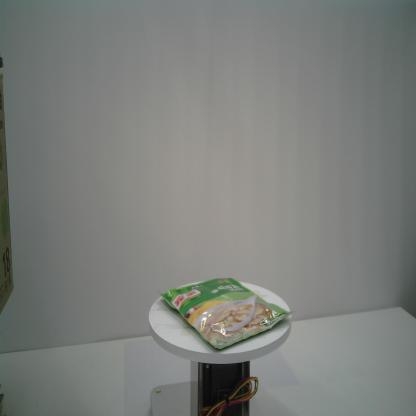Seasoner: (158, 277, 296, 351)
